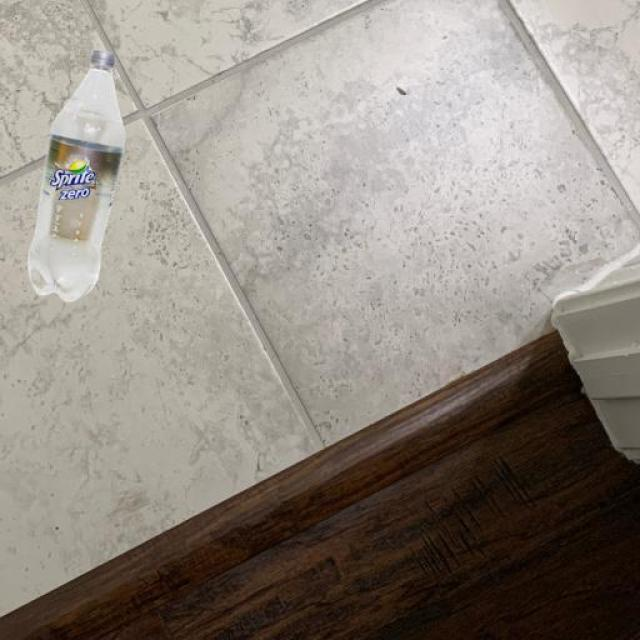bottle: (27, 41, 129, 332)
